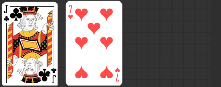7H: (113, 66, 120, 82)
JC: (50, 66, 57, 84)
